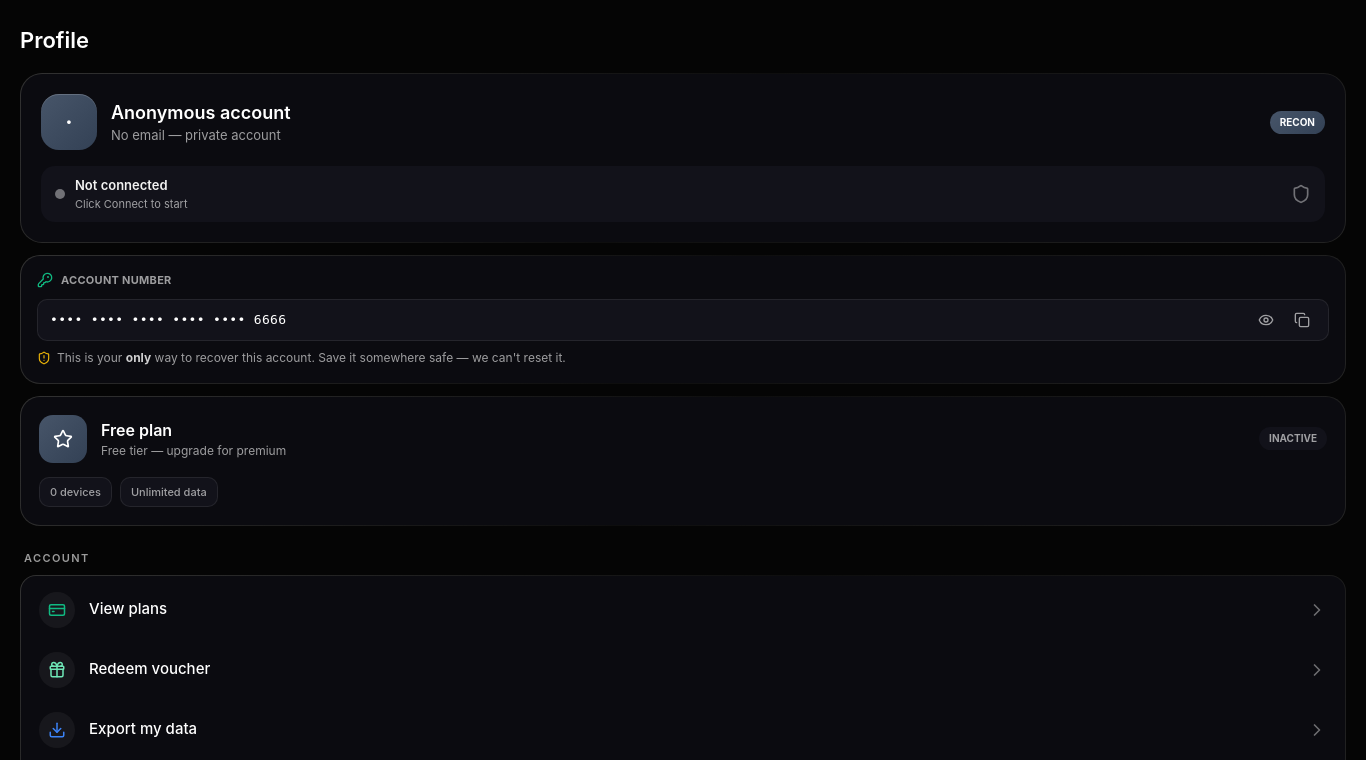
Test: the number on Profile › a full number: masked until asked, with the reveal and copy buttons (unchanged)
This screenshot has width=1366, height=760.
Expected: the text with test id "account-number" reads "•••• •••• •••• •••• •••• 6666", [50, 312, 286, 327]
Expected: the button named "Copy account number" is shown, [1288, 306, 1316, 334]
Step 1. Click the button named "Show account number" → (1266,320), box [1252, 306, 1280, 334]
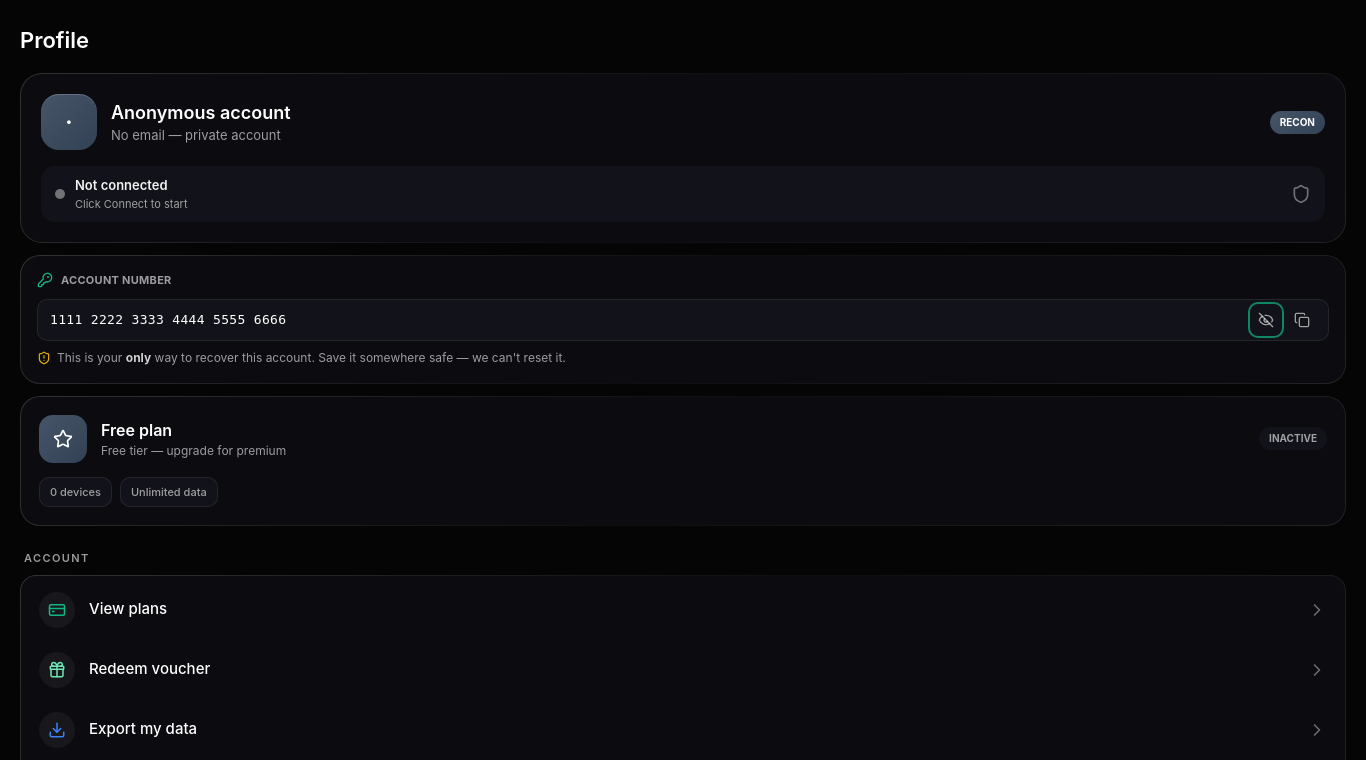
Expected: the text with test id "account-number" reads "1111 2222 3333 4444 5555 6666", [50, 312, 286, 327]
